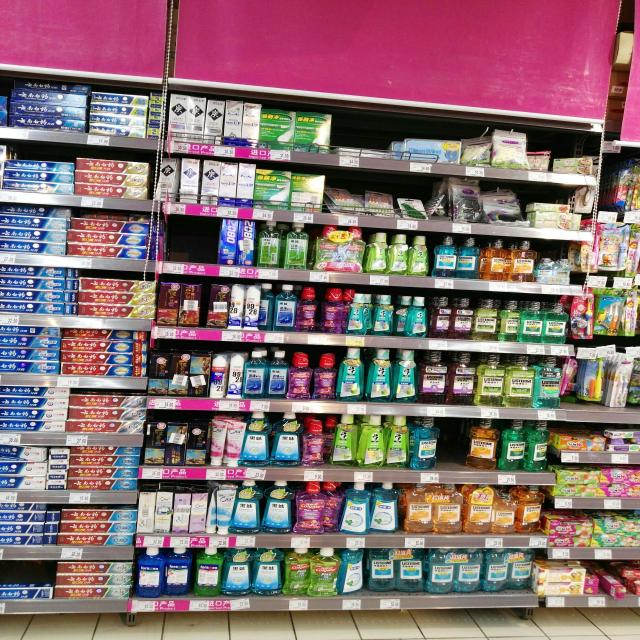void: (444, 420, 464, 470), (192, 222, 215, 260)
